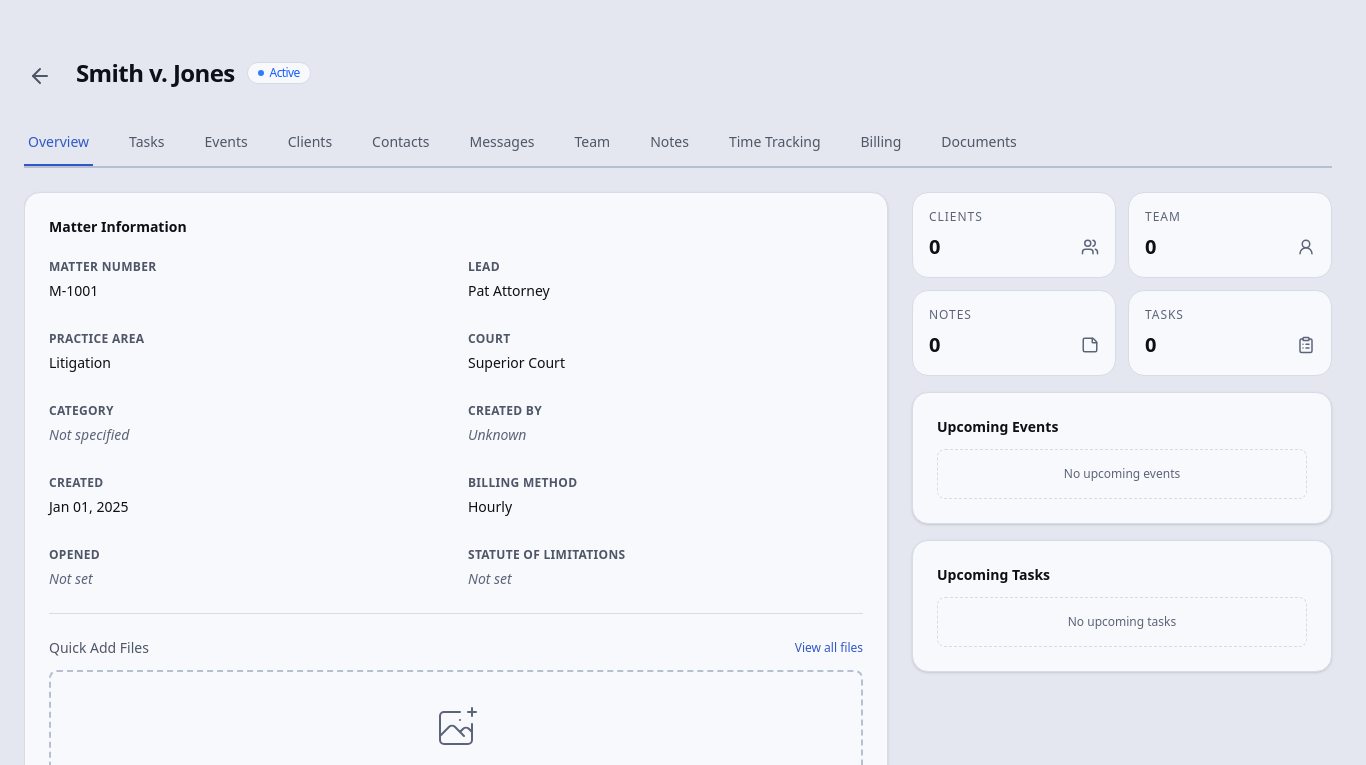
Test: narrow role behavior › offers Create Invoice to a member who can manage invoices
This screenshot has width=1366, height=765.
Check: the heading "Smith v. Jones Active" is shown, box [76, 56, 311, 89]
Click the button "Billing" at (881, 143), box [856, 120, 905, 166]
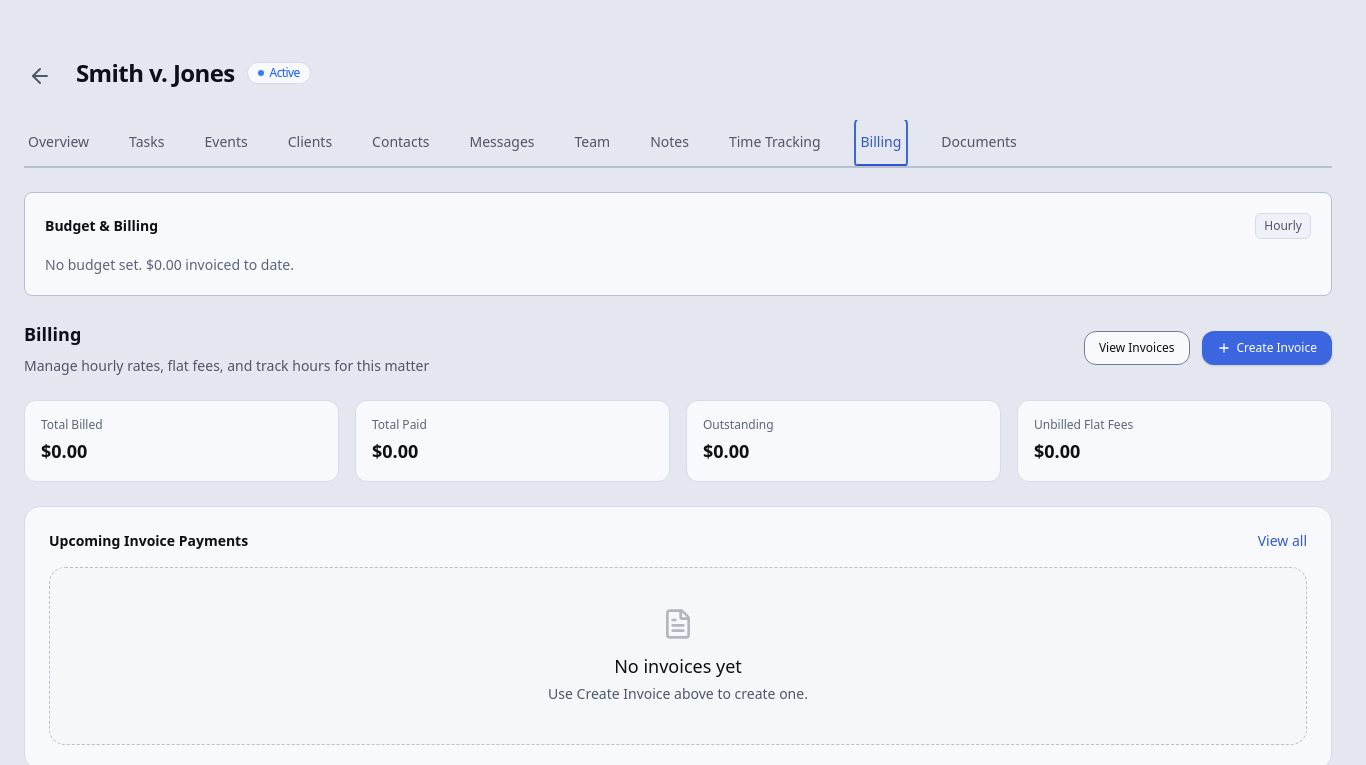
Check: the button "Create Invoice" is shown, box [1202, 331, 1332, 365]
